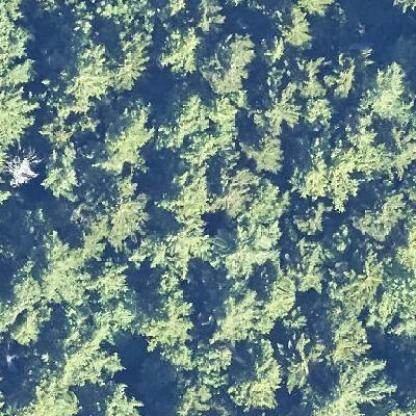tree-top: (26, 224, 97, 304), (285, 135, 362, 202), (304, 296, 376, 363), (136, 285, 200, 353), (97, 104, 157, 172), (154, 167, 217, 230), (320, 350, 396, 402), (227, 338, 281, 410), (54, 38, 117, 94), (362, 59, 410, 123), (354, 183, 402, 243), (252, 79, 300, 138), (158, 24, 206, 81), (0, 83, 41, 149), (92, 377, 161, 415), (271, 2, 322, 51), (85, 254, 130, 303), (38, 159, 82, 203), (375, 124, 415, 172)
